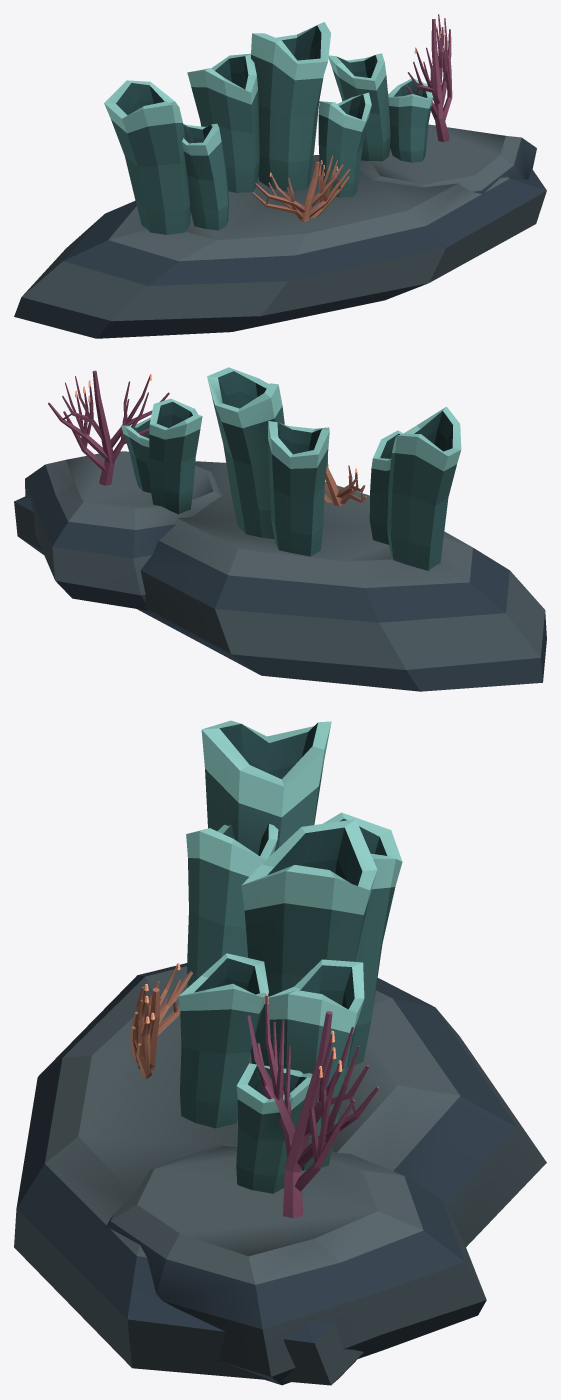
File: abyss-sponge-ledge.glb
The picture shows the model from 3 angles, top to bottom: view 1: azimuth 30°, elevation 25°; view 2: azimuth 150°, elevation 25°; view 3: azimuth 270°, elevation 25°; orthographic projection. The views are drawn at different scales.
Parts seen in each view (by area): view 1: abyss-sponge-ledge; view 2: abyss-sponge-ledge; view 3: abyss-sponge-ledge.
Boxes of the visible parts, x1,y1,x2,y2 form: abyss-sponge-ledge: [14, 14, 546, 338]; abyss-sponge-ledge: [14, 367, 546, 691]; abyss-sponge-ledge: [14, 720, 546, 1385].
Size of the model in its own units: 10.47 by 4.27 by 5.33.
